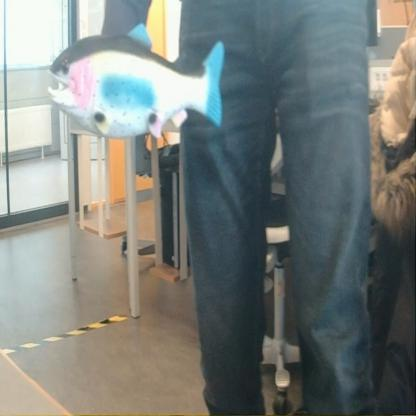rubberfish: (45, 17, 233, 147)
